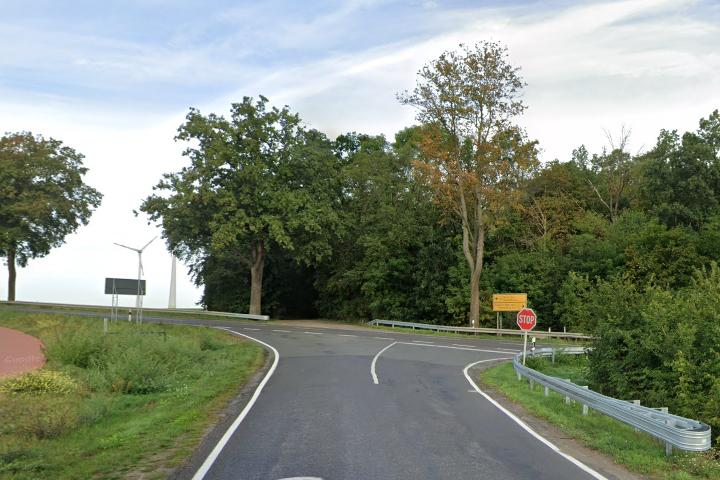traffic_sign: (516, 308, 537, 331)
